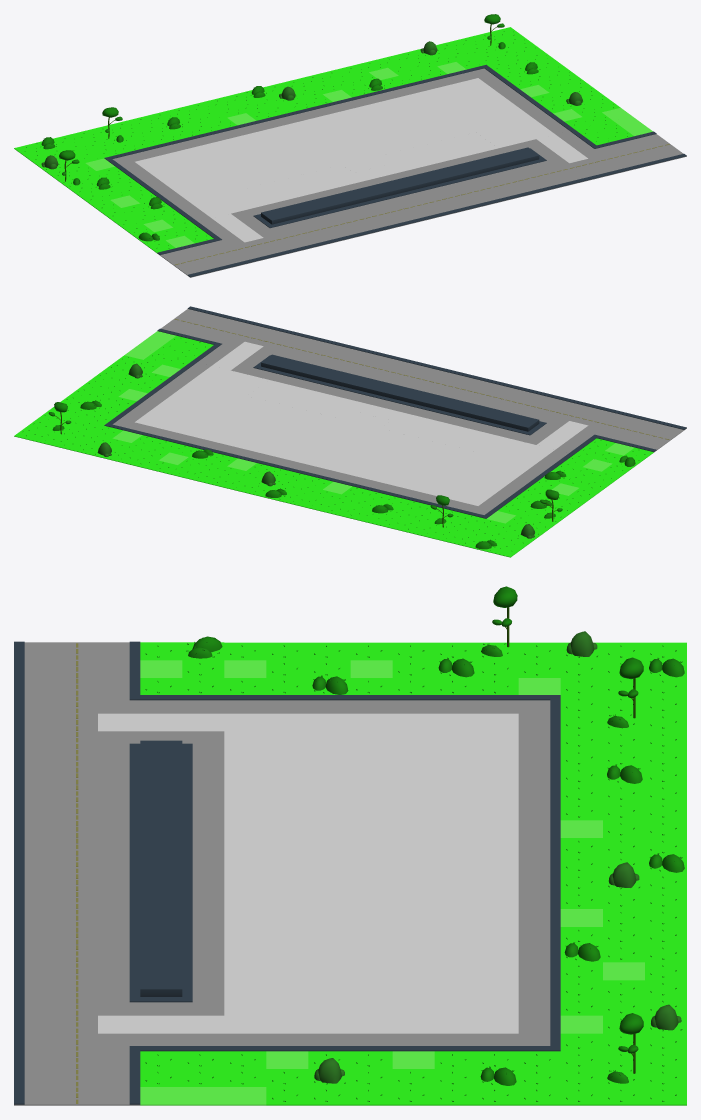
Rendered from Cenario.fbx.
3 views of the same model, one above another, from view 1: azimuth 30°, elevation 25°; view 2: azimuth 150°, elevation 25°; view 3: azimuth 270°, elevation 25° (orthographic). The views are drawn at different scales.
Visible parts, largest first — view 1: Vege.arvore.003, Vege.arvore.004, Vege.arvore.001; view 2: Vege.arvore.003, Vege.arvore.004, Vege.arvore.001; view 3: Vege.arvore.003, Vege.arvore.004, Vege.arvore.001, Rua.quina.014, Vege.pedra.005, Vege.pedra.003, Vege.pedra.002, Vege.pedra.001, Vege.arbustos.010, Rua.meiofio.059, Vege.arbustos.002, Rua.esquina.001 (+333 smaller).
Boxes of the visible parts, x1,y1,x2,y2 form: Vege.arvore.003: [58, 150, 87, 188]; Vege.arvore.004: [102, 107, 130, 145]; Vege.arvore.001: [484, 14, 513, 52]; Vege.arvore.003: [536, 489, 565, 524]; Vege.arvore.004: [426, 495, 455, 530]; Vege.arvore.001: [44, 402, 73, 436]; Vege.arvore.003: [476, 586, 518, 660]; Vege.arvore.004: [603, 657, 644, 731]; Vege.arvore.001: [603, 1013, 644, 1086]; Rua.quina.014: [140, 971, 182, 996]; Vege.pedra.005: [560, 631, 602, 660]; Vege.pedra.003: [603, 862, 644, 891]; Vege.pedra.002: [645, 1004, 686, 1033]; Vege.pedra.001: [308, 1058, 350, 1086]; Vege.arbustos.010: [182, 636, 224, 660]; Rua.meiofio.059: [98, 1086, 140, 1105]; Vege.arbustos.002: [560, 942, 602, 962]; Rua.esquina.001: [518, 1032, 560, 1051].
Bounding box in the file's own units: 104 × 6.39 × 64.
